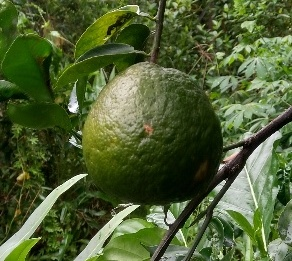Cam: (80, 60, 224, 206)
